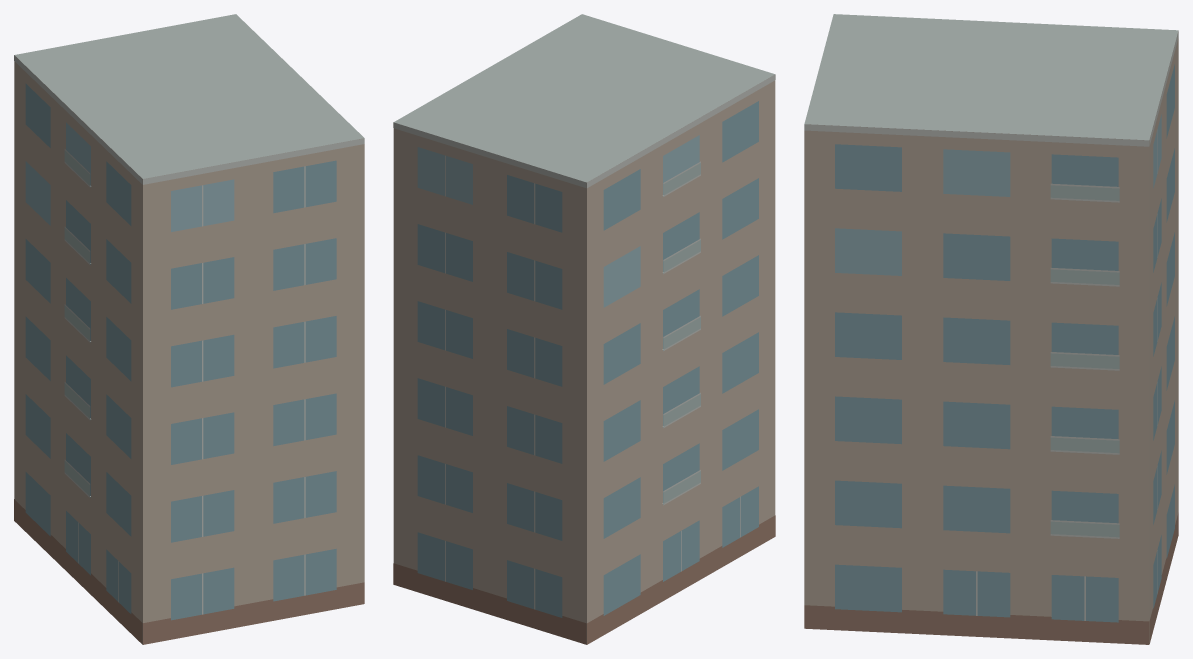
The model's file is survey-upis-32637908.glb.
3 views of the same model, side by side, from view 1: azimuth 30°, elevation 25°; view 2: azimuth 150°, elevation 25°; view 3: azimuth 270°, elevation 25° (orthographic). The views are drawn at different scales.
Visible parts, largest first — view 1: survey-upis-32637908.tmp; view 2: survey-upis-32637908.tmp; view 3: survey-upis-32637908.tmp.
Boxes of the visible parts, x1,y1,x2,y2 form: survey-upis-32637908.tmp: [14, 14, 364, 644]; survey-upis-32637908.tmp: [393, 14, 775, 644]; survey-upis-32637908.tmp: [804, 14, 1178, 644].
Bounding box in the file's own units: 10.38 × 19.3 × 12.99.
